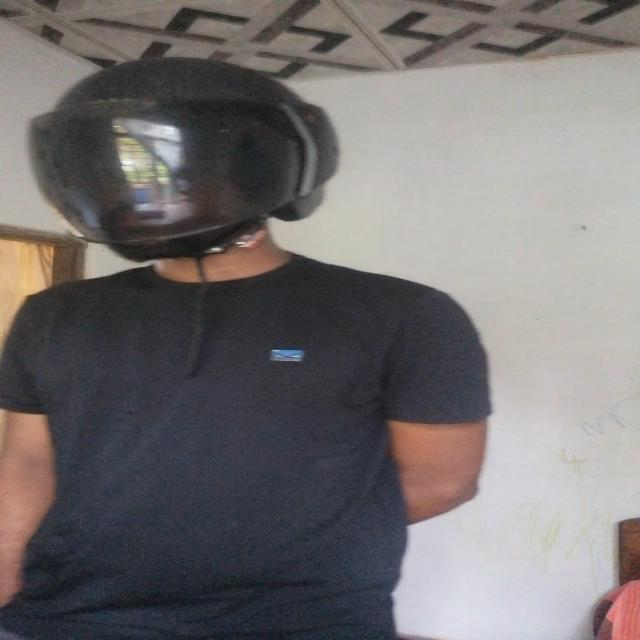Helmet_Wearer: (12, 44, 351, 292)
Person: (0, 42, 481, 634)
